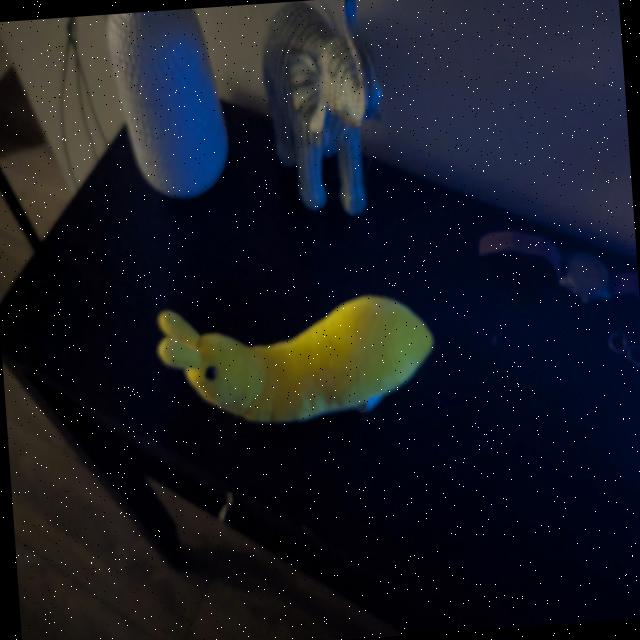banana-slug-toy: (150, 276, 458, 470)
